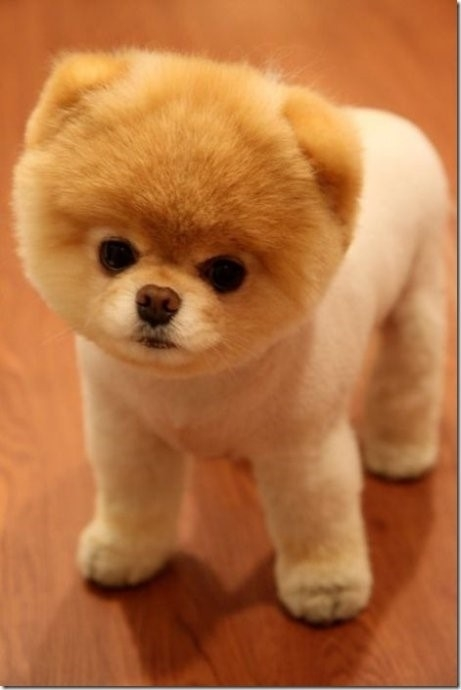dog: (8, 42, 364, 362)
